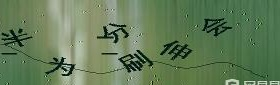chinese: (99, 16, 133, 46), (45, 53, 80, 80), (160, 38, 192, 65), (116, 51, 153, 74), (2, 24, 34, 49), (202, 17, 233, 39)
